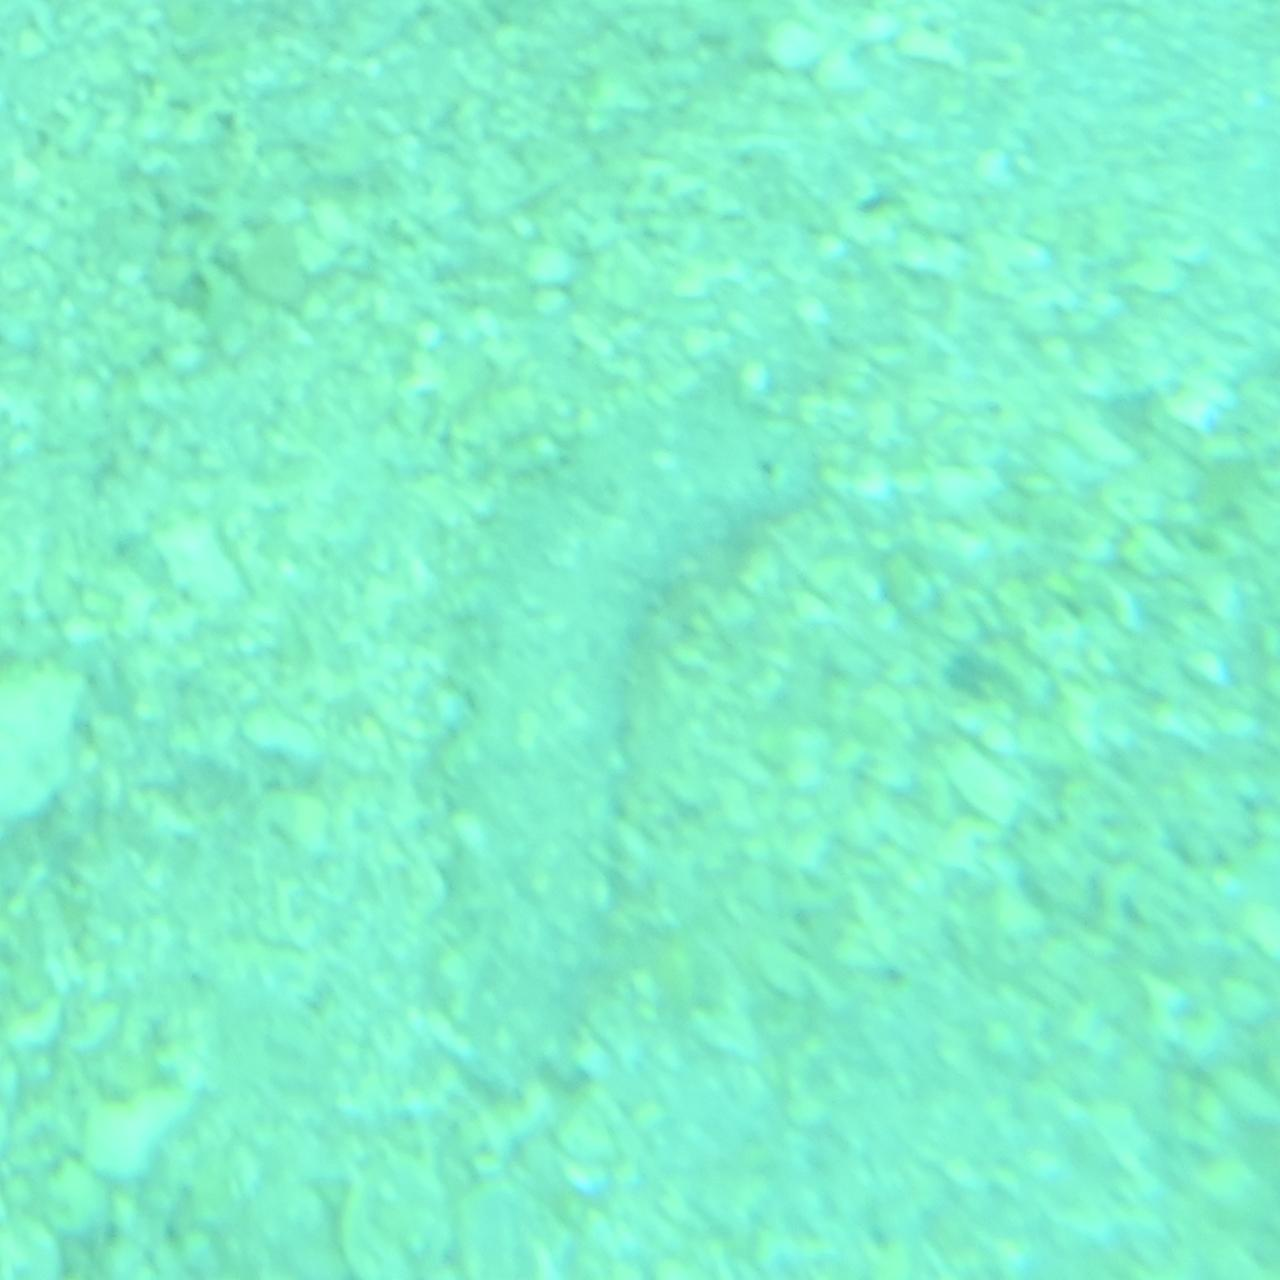Holothuria tubulosa: (440, 381, 840, 1097)
